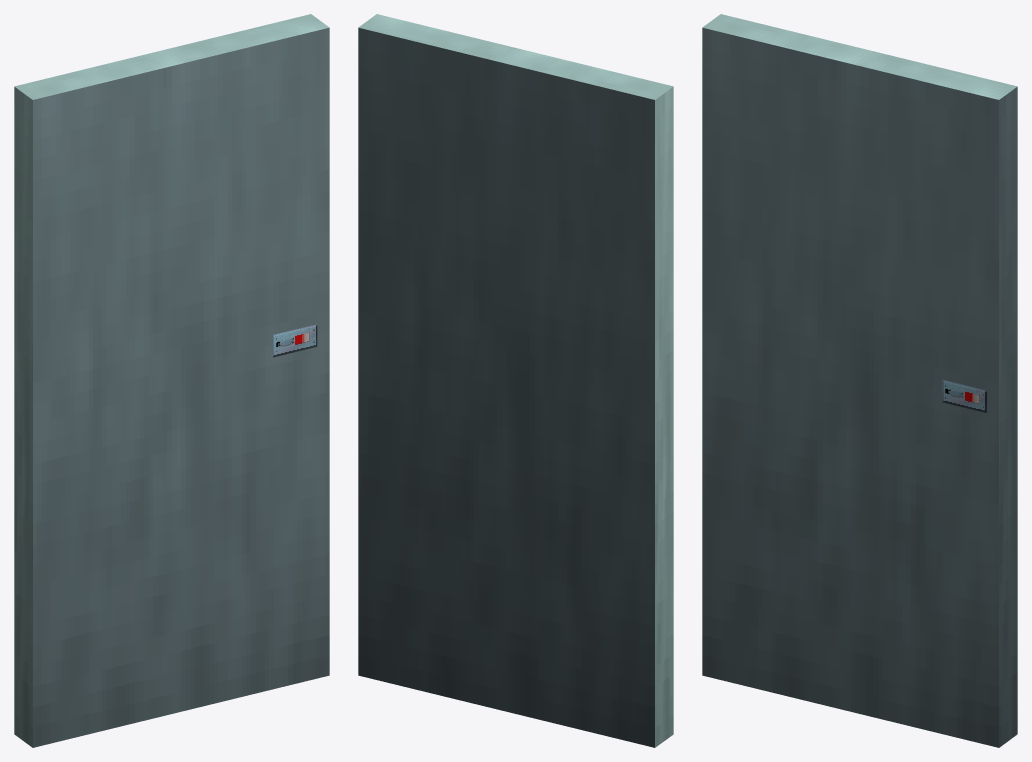
Rendered from primary_215.glb.
The picture shows the model from 3 angles, left to right: view 1: azimuth 30°, elevation 25°; view 2: azimuth 150°, elevation 25°; view 3: azimuth 330°, elevation 25°; orthographic projection.
Visible parts, largest first — view 1: Object; view 2: Object; view 3: Object.
Boxes of the visible parts, <box> form: Object: <box>14,14,329,747</box>; Object: <box>358,14,673,747</box>; Object: <box>702,14,1017,747</box>.
Size of the model in its own units: 1.21 by 2.52 by 0.1313.
5 materials, 5 textured.
